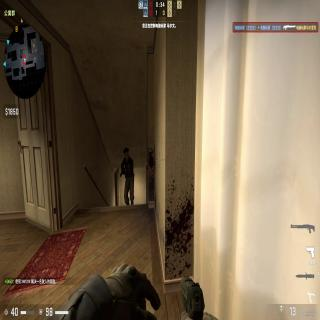T-Body: (120, 147, 136, 204)
T-Head: (123, 148, 130, 160)
